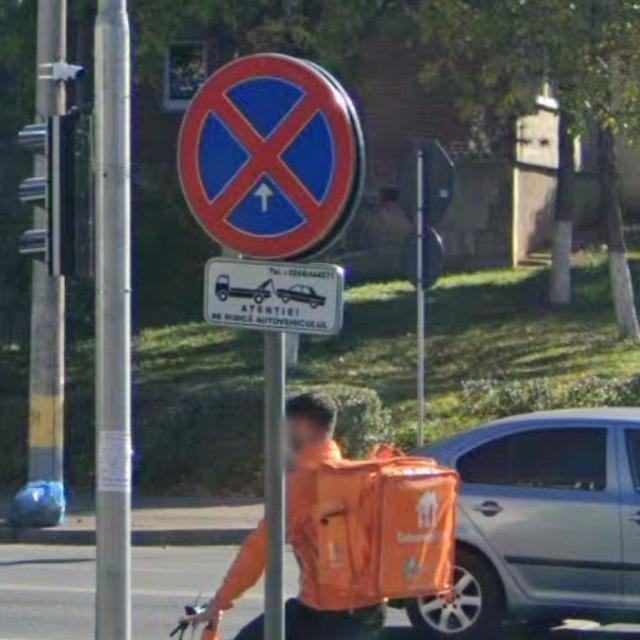forb_waiting: (171, 54, 357, 256)
